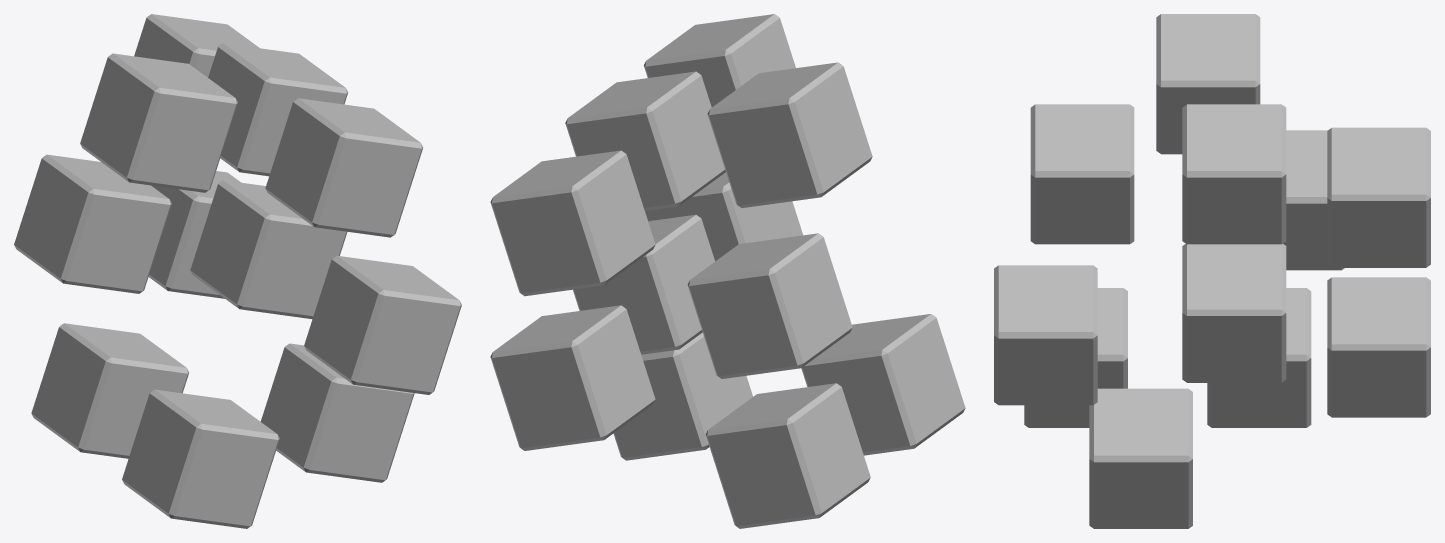
Rendered from cubes.glb.
3 views of the same model, side by side, from view 1: azimuth 30°, elevation 25°; view 2: azimuth 150°, elevation 25°; view 3: azimuth 270°, elevation 25° (orthographic). The views are drawn at different scales.
Parts seen in each view (by area): view 1: Cube.003, Cube.005, Cube.006, Cube.010, Cube.008, Cube.004, Cube.002, Cube.009, Cube.001, Cube, Cube.007; view 2: Cube.007, Cube.005, Cube.002, Cube.008, Cube, Cube.010, Cube.001, Cube.004, Cube.009, Cube.006, Cube.003; view 3: Cube.001, Cube.006, Cube, Cube.003, Cube.007, Cube.004, Cube.009, Cube.005, Cube.002, Cube.008, Cube.010.
Boxes of the visible parts, x1,y1,x2,y2 form: Cube.003: (304,255,461,394); Cube.005: (80,53,237,192); Cube.006: (265,98,423,237); Cube.010: (122,389,279,528); Cube.008: (14,154,171,293); Cube.004: (190,180,347,319); Cube.002: (31,323,189,458); Cube.009: (260,343,414,482); Cube.001: (208,43,348,176); Cube: (148,171,240,298); Cube.007: (134,14,259,77); Cube.007: (490,150,655,296); Cube.005: (707,62,872,207); Cube.002: (705,383,870,528); Cube.008: (687,233,852,378); Cube: (490,305,655,450); Cube.010: (801,314,965,455); Cube.001: (565,71,725,210); Cube.004: (573,214,714,354); Cube.009: (613,332,752,460); Cube.006: (644,14,795,107); Cube.003: (645,172,802,261); Cube.001: (1182,104,1286,244); Cube.006: (1030,104,1134,244); Cube: (1327,277,1430,417); Cube.003: (994,265,1097,405); Cube.007: (1327,127,1430,267); Cube.004: (1182,244,1286,382); Cube.009: (1089,388,1192,528); Cube.005: (1156,14,1260,154); Cube.002: (1207,288,1311,427); Cube.008: (1283,130,1344,270); Cube.010: (1024,288,1127,427).
Bounding box in the file's own units: 1.25 × 1.79 × 1.68.
Materials: 1 (1 with a texture image).
